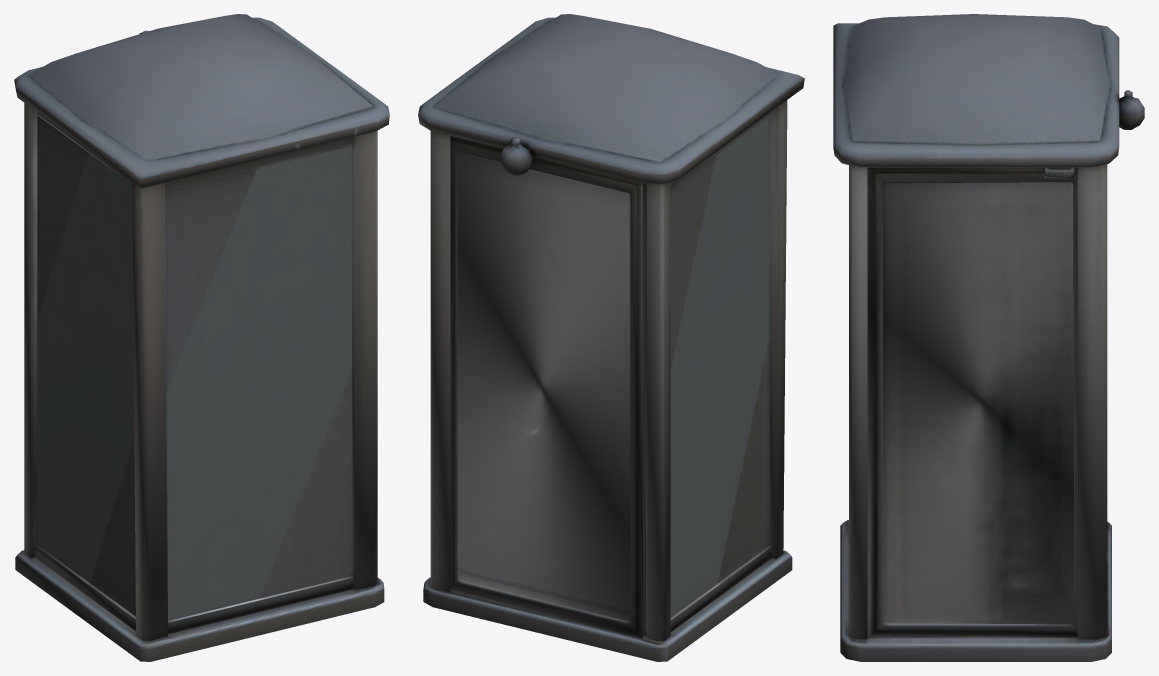
The model's file is phone-kiosk.glb.
The picture shows the model from 3 angles, left to right: view 1: azimuth 30°, elevation 25°; view 2: azimuth 150°, elevation 25°; view 3: azimuth 270°, elevation 25°; orthographic projection. The views are drawn at different scales.
Parts seen in each view (by area): view 1: tripo_node_a05e8da0-16c7-4a4e-b087-ed1cd941ccb7; view 2: tripo_node_a05e8da0-16c7-4a4e-b087-ed1cd941ccb7; view 3: tripo_node_a05e8da0-16c7-4a4e-b087-ed1cd941ccb7.
Boxes of the visible parts, box(x1,y1,x2,y2) form: tripo_node_a05e8da0-16c7-4a4e-b087-ed1cd941ccb7: box(14, 14, 389, 661); tripo_node_a05e8da0-16c7-4a4e-b087-ed1cd941ccb7: box(418, 14, 804, 661); tripo_node_a05e8da0-16c7-4a4e-b087-ed1cd941ccb7: box(833, 14, 1144, 661).
Size of the model in its own units: 0.502 by 0.998 by 0.502.
1 material, 1 textured.
